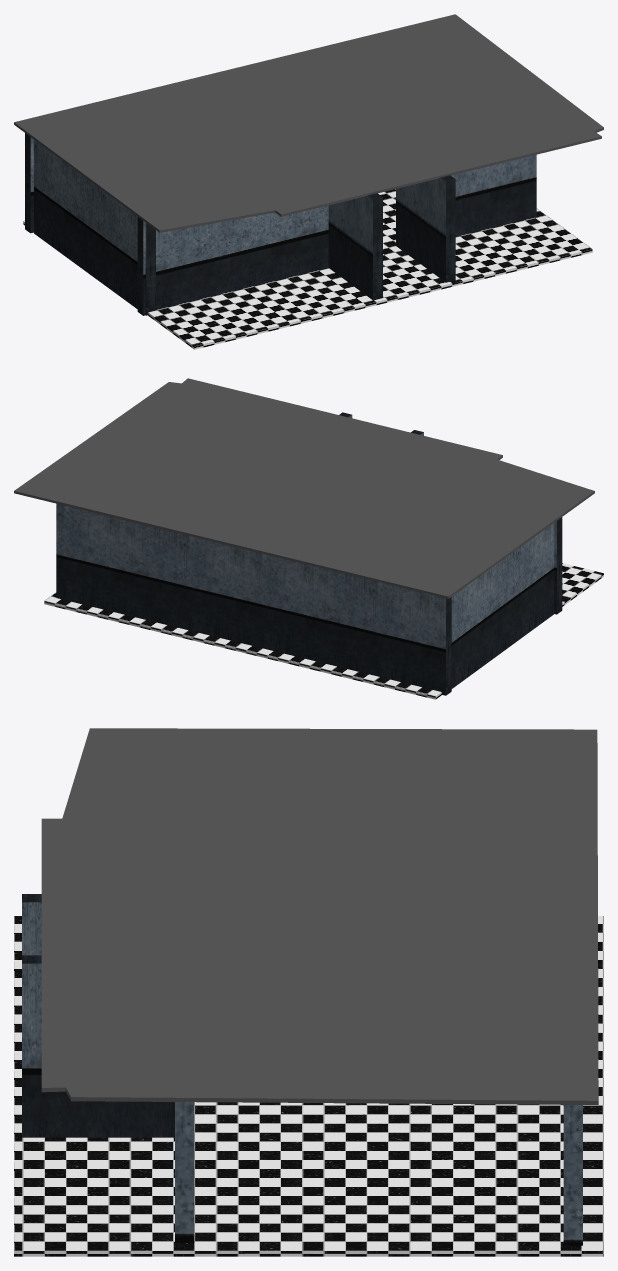
Rendered from Parts&Service.glb.
The picture shows the model from 3 angles, top to bottom: view 1: azimuth 30°, elevation 25°; view 2: azimuth 150°, elevation 25°; view 3: azimuth 270°, elevation 25°; orthographic projection. The views are drawn at different scales.
Parts seen in each view (by area): view 1: plafond.003, sol.004, mur1.011, mur1.002, mur1.001, mur1.005, mur1.006, mur1.012; view 2: plafond.003, mur1.013, mur1.012, mur1.002, sol.004, mur1.011; view 3: plafond.003, sol.004, mur1.005, mur1.001, mur1.013, mur1.006.
Boxes of the visible parts, left/top/right/bottom form: plafond.003: left=14, top=14, right=603, bottom=232; sol.004: left=23, top=189, right=592, bottom=349; mur1.011: left=137, top=205, right=328, bottom=315; mur1.002: left=34, top=140, right=155, bottom=315; mur1.001: left=451, top=154, right=536, bottom=236; mur1.005: left=396, top=175, right=455, bottom=282; mur1.006: left=328, top=193, right=382, bottom=300; mur1.012: left=25, top=133, right=33, bottom=233; plafond.003: left=14, top=378, right=594, bottom=598; mur1.013: left=56, top=503, right=262, bottom=647; mur1.012: left=254, top=552, right=451, bottom=695; mur1.002: left=451, top=523, right=554, bottom=688; sol.004: left=44, top=563, right=603, bottom=699; mur1.011: left=554, top=517, right=562, bottom=614; plafond.003: left=41, top=728, right=598, bottom=1104; sol.004: left=14, top=916, right=603, bottom=1256; mur1.005: left=22, top=955, right=174, bottom=1137; mur1.001: left=175, top=1102, right=194, bottom=1242; mur1.013: left=563, top=1105, right=582, bottom=1245; mur1.006: left=22, top=894, right=41, bottom=955.
Size of the model in its own units: 13.67 by 3.13 by 9.15.
9 materials, 8 textured.
